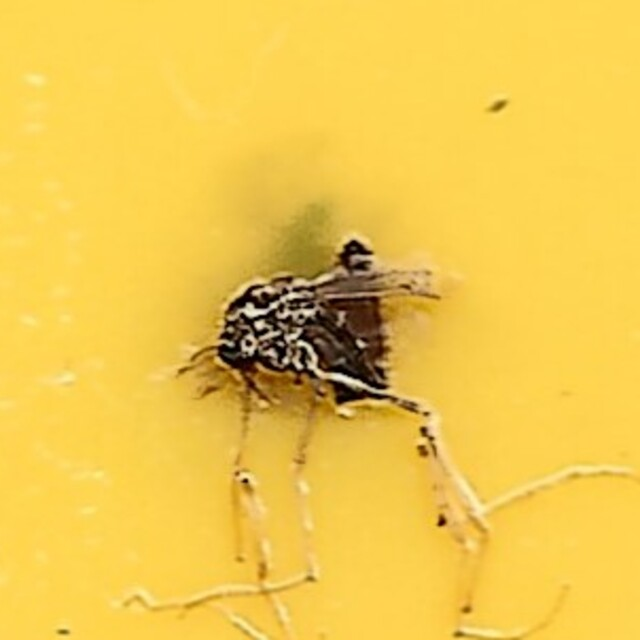Nematocera: (212, 207, 428, 433)
